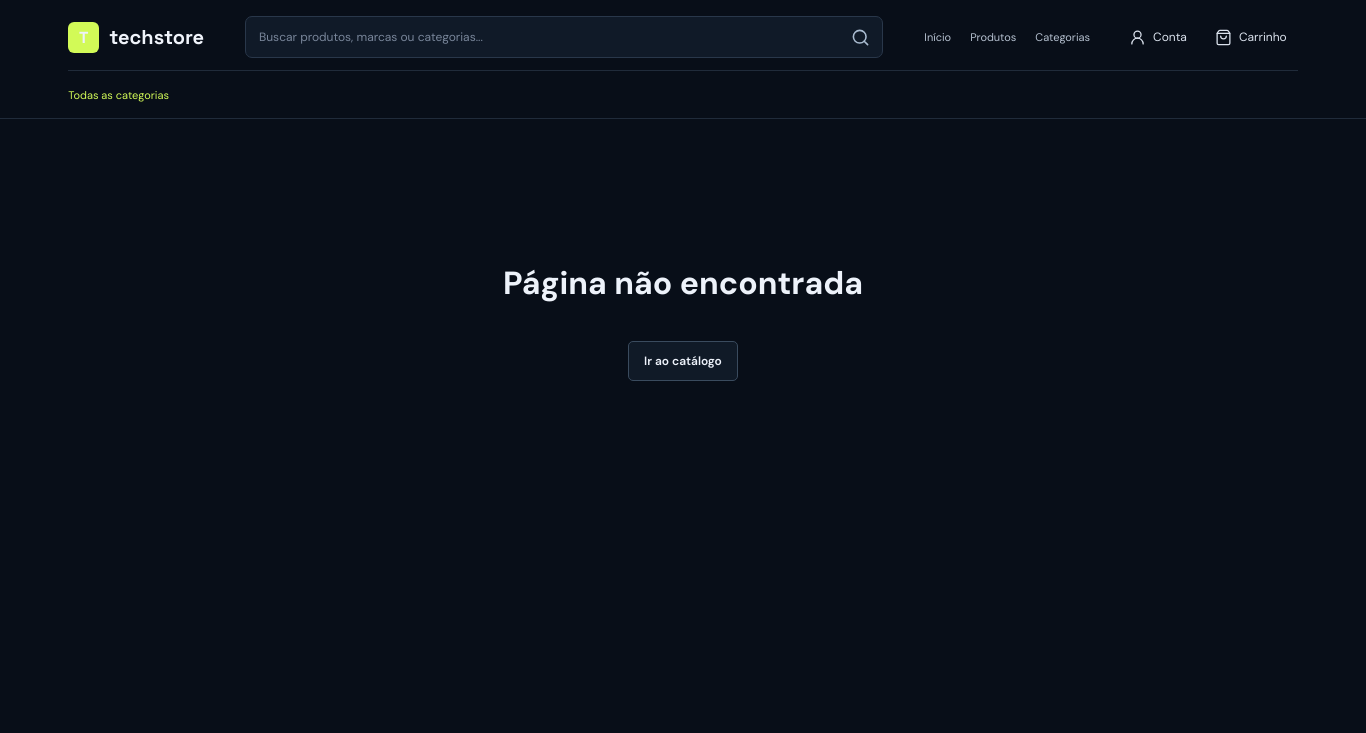
Test: App cart navigation and badge › sends the not-found fallback to the full catalog
Expected: the heading "Página não encontrada" is shown, [503, 262, 863, 304]
Step 1. Click the link "Ir ao catálogo" → (683, 361), box [628, 341, 738, 381]
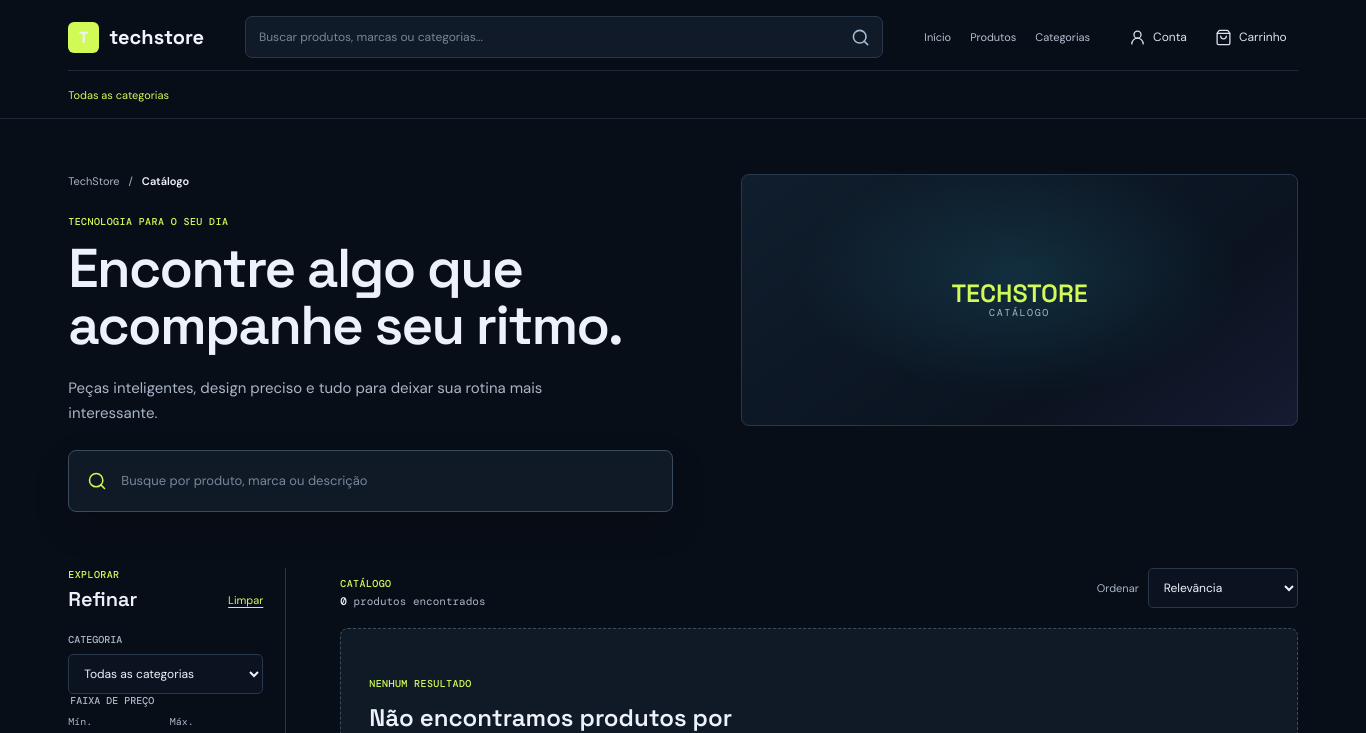
Expected: the heading "Encontre algo que acompanhe seu ritmo." is shown, [68, 240, 673, 354]
